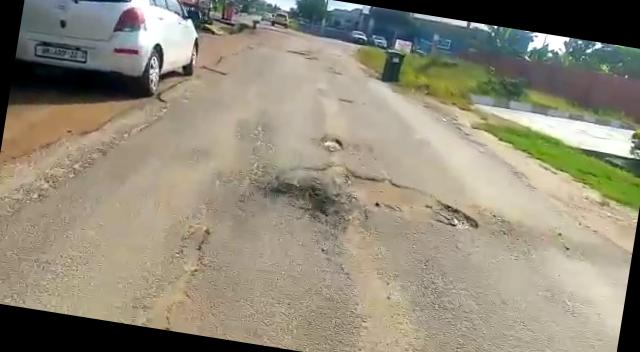pothole: (285, 158, 489, 240), (318, 134, 350, 154)
